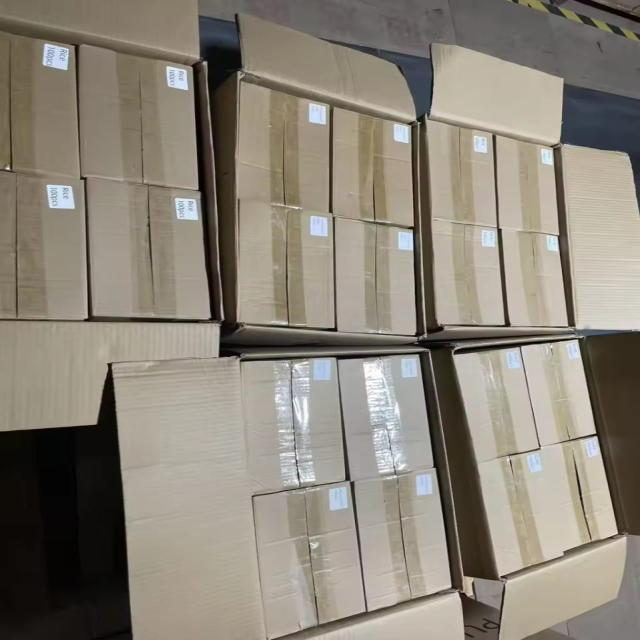carton_box: (80, 164, 223, 336), (82, 30, 207, 199), (0, 8, 101, 193), (237, 493, 368, 635), (320, 203, 435, 349), (234, 73, 343, 226), (347, 468, 463, 611), (0, 166, 96, 333), (237, 356, 351, 495), (232, 189, 340, 334), (325, 88, 426, 234), (330, 349, 443, 477), (534, 431, 633, 557), (480, 121, 582, 241), (480, 446, 570, 579), (420, 208, 510, 332), (514, 328, 610, 444), (414, 113, 501, 236), (454, 338, 540, 460), (500, 228, 578, 338)
export_mark_label: (28, 40, 76, 74), (40, 180, 84, 214), (469, 121, 503, 163), (164, 56, 196, 98), (304, 355, 346, 386), (326, 478, 356, 520), (300, 208, 336, 242), (380, 120, 419, 148), (410, 468, 442, 502), (559, 329, 586, 368), (300, 98, 331, 128), (476, 226, 508, 254), (536, 230, 567, 257), (522, 448, 551, 475), (175, 195, 202, 222), (586, 428, 608, 460), (400, 353, 424, 381), (506, 345, 528, 375), (536, 143, 559, 170), (397, 228, 417, 258)
